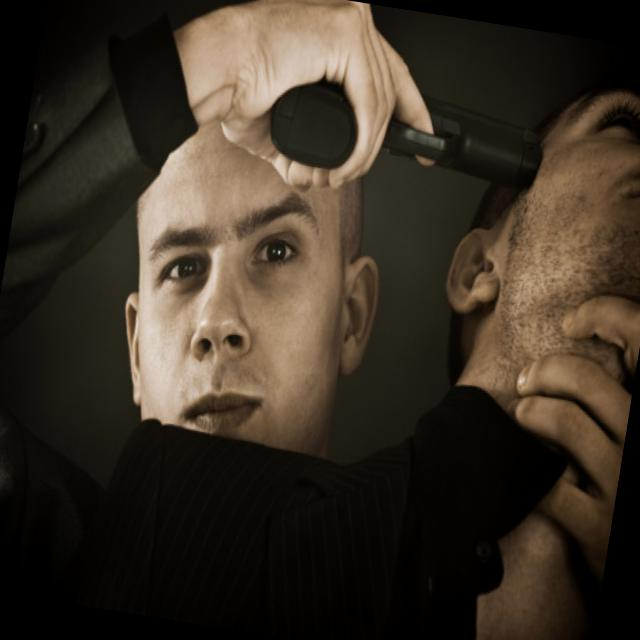handgun: (262, 62, 550, 192)
